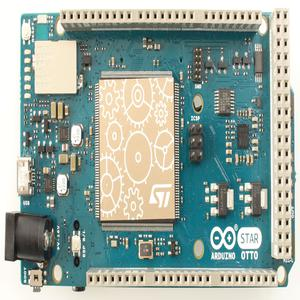duino: (16, 8, 294, 292)
